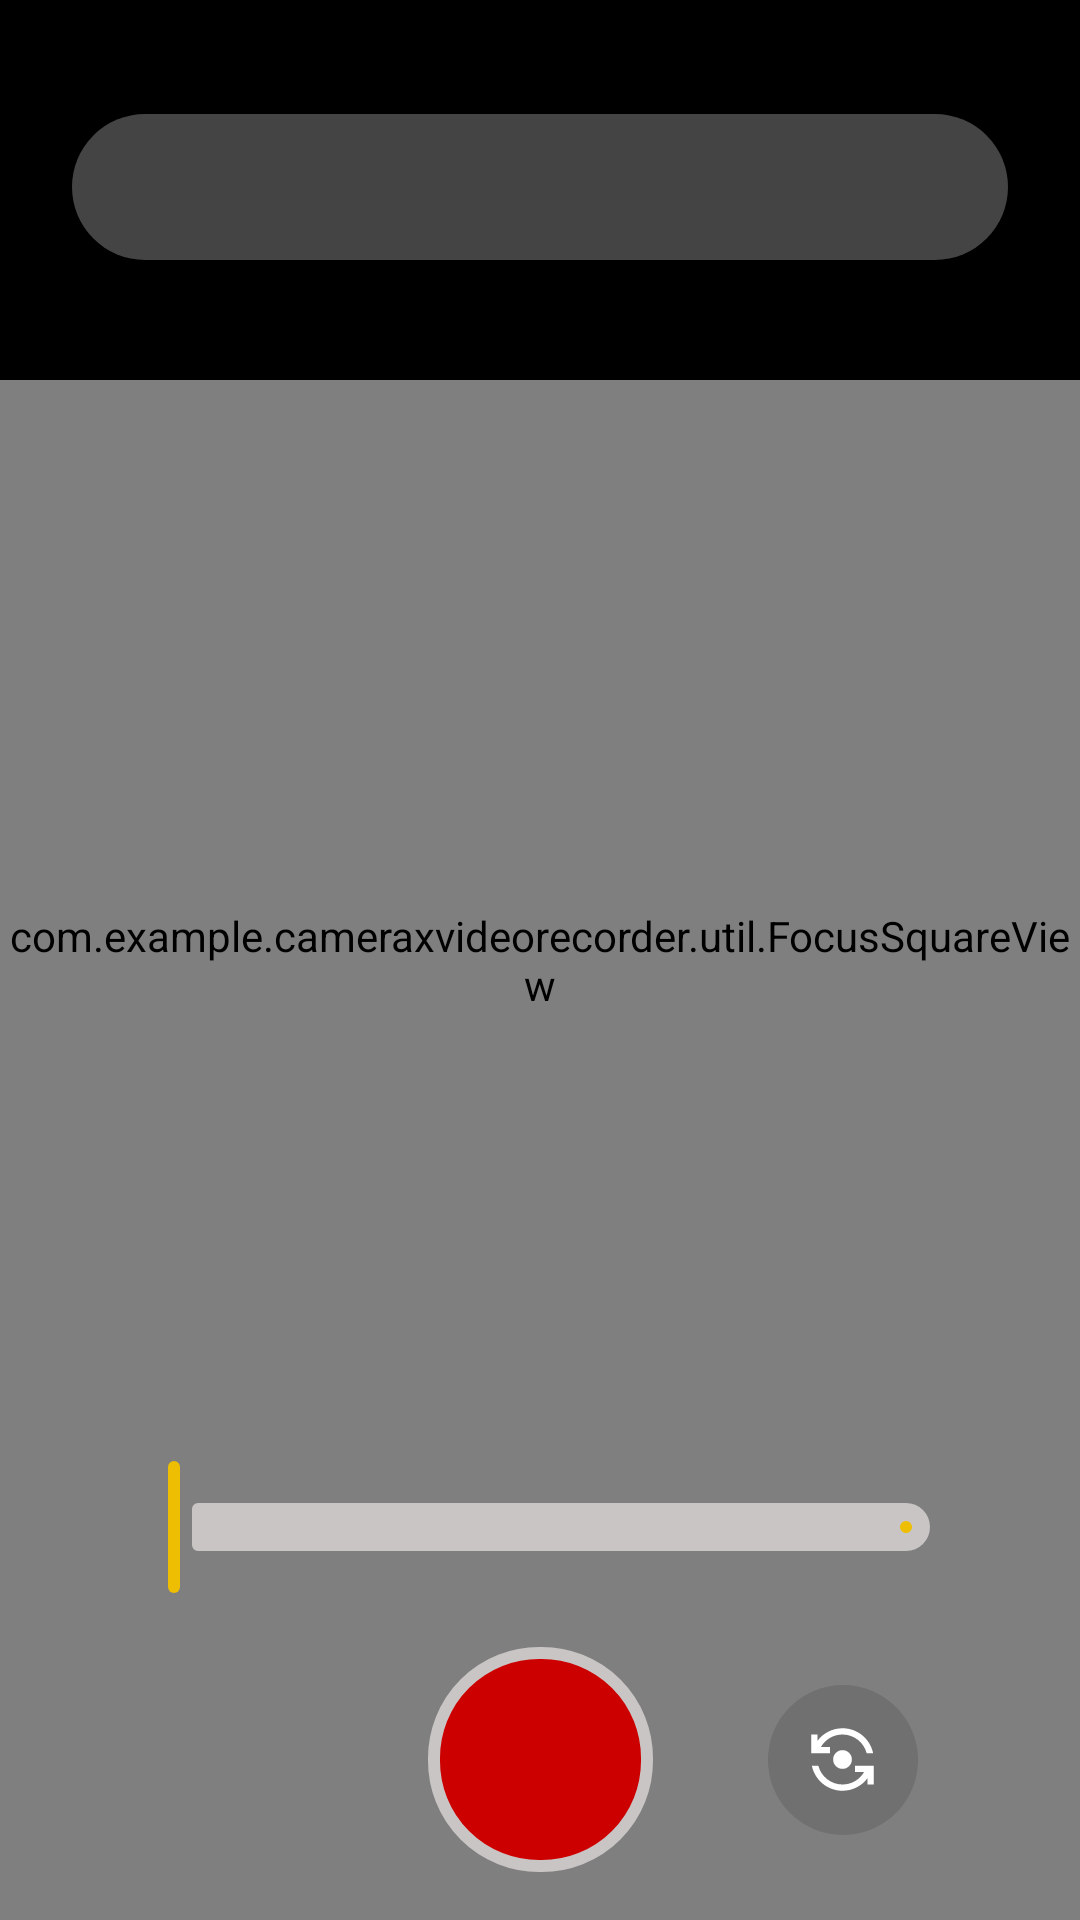

Named icons in this screenshot (1080w x 1920h) and their centers, (x=x, y=y):
flip camera android: (x=842, y=1759)
